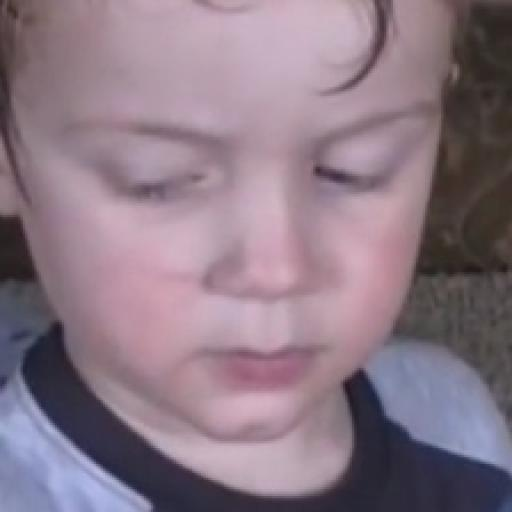Autism: (0, 4, 472, 446)
